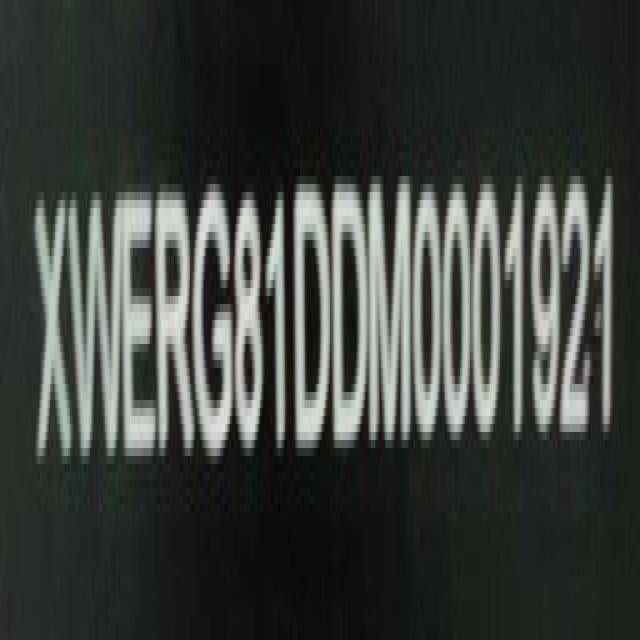0: (444, 180, 474, 448), (472, 178, 502, 446), (415, 178, 444, 449)
1: (264, 181, 290, 462), (597, 167, 621, 445), (506, 173, 527, 447)
2: (559, 174, 591, 444)
8: (233, 190, 264, 462)
9: (530, 176, 561, 443)
D: (294, 178, 333, 460), (334, 175, 370, 457)
E: (123, 187, 160, 470)
G: (194, 178, 235, 468)
M: (368, 172, 413, 452)
R: (155, 187, 195, 459)
W: (70, 185, 125, 472)
X: (33, 187, 70, 480)
